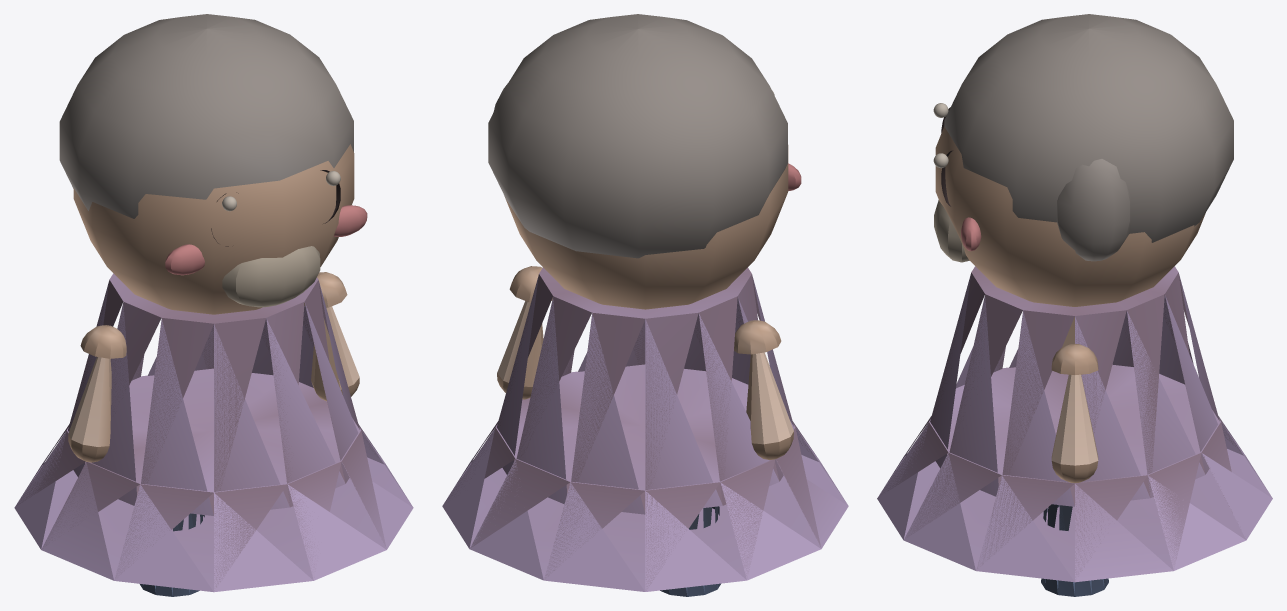
3 views of the same model, side by side, from view 1: azimuth 30°, elevation 25°; view 2: azimuth 150°, elevation 25°; view 3: azimuth 270°, elevation 25° (orthographic). The views are drawn at different scales.
Parts seen in each view (by area): view 1: pet_p293518cb; view 2: pet_p293518cb; view 3: pet_p293518cb.
Boxes of the visible parts, bbox=[...] form: pet_p293518cb: bbox=[14, 14, 413, 596]; pet_p293518cb: bbox=[442, 14, 848, 596]; pet_p293518cb: bbox=[877, 14, 1272, 596].
Bounding box in the file's own units: 0.42 × 0.625 × 0.42.
